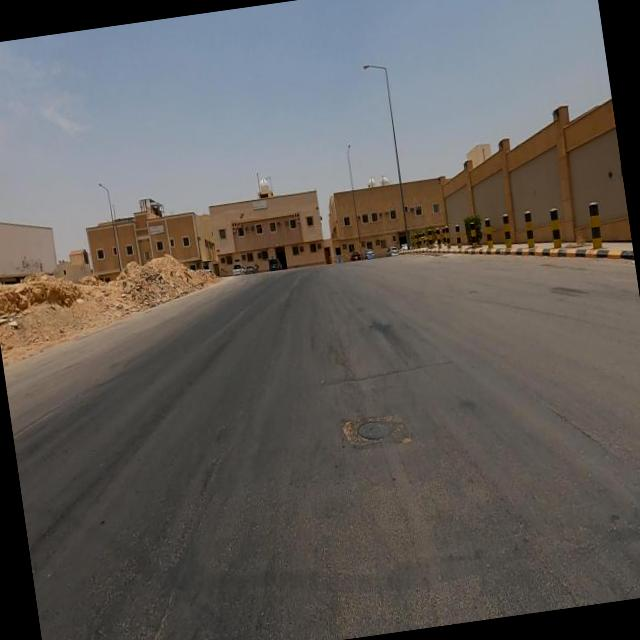debris: (0, 275, 49, 357)
